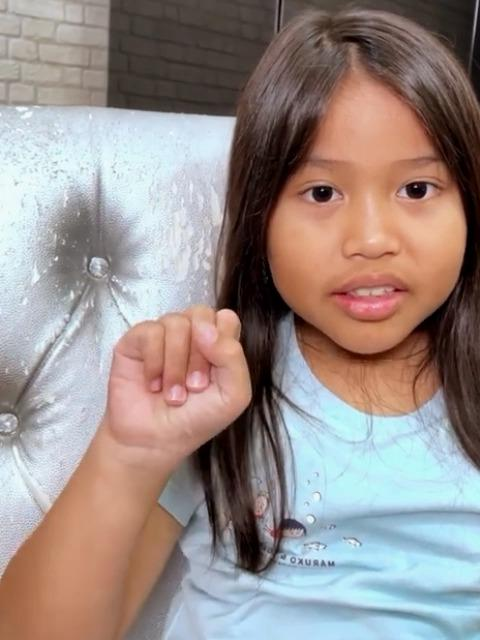S: (90, 300, 257, 458)
